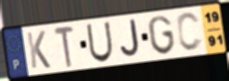C: (175, 11, 205, 53)
G: (146, 14, 177, 56)
J: (119, 18, 142, 59)
K: (25, 29, 53, 70)
T: (52, 25, 76, 69)
U: (85, 20, 115, 64)
